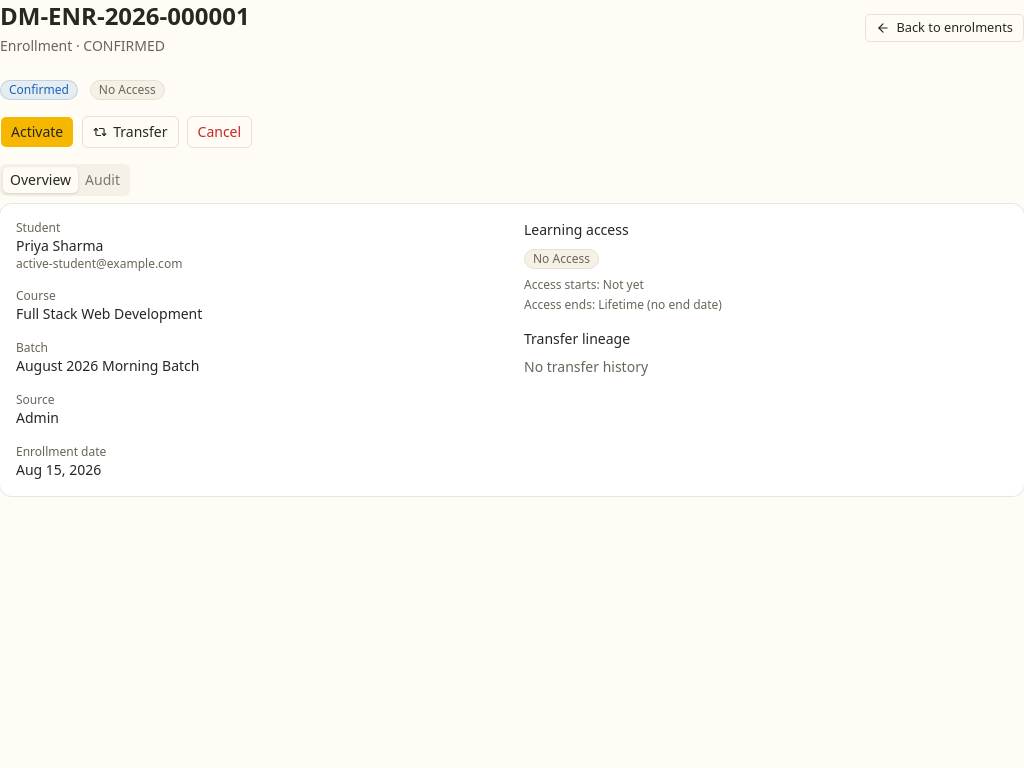
Test case: EnrollmentDetailPage › transfers a CONFIRMED enrollment to another batch of the same course
The width and height of the screenshot is (1024, 768).
Expected: the heading "DM-ENR-2026-000001" is shown, [0,0,250,32]
Click the button "Transfer": coordinates (130, 132) [82,116,179,148]
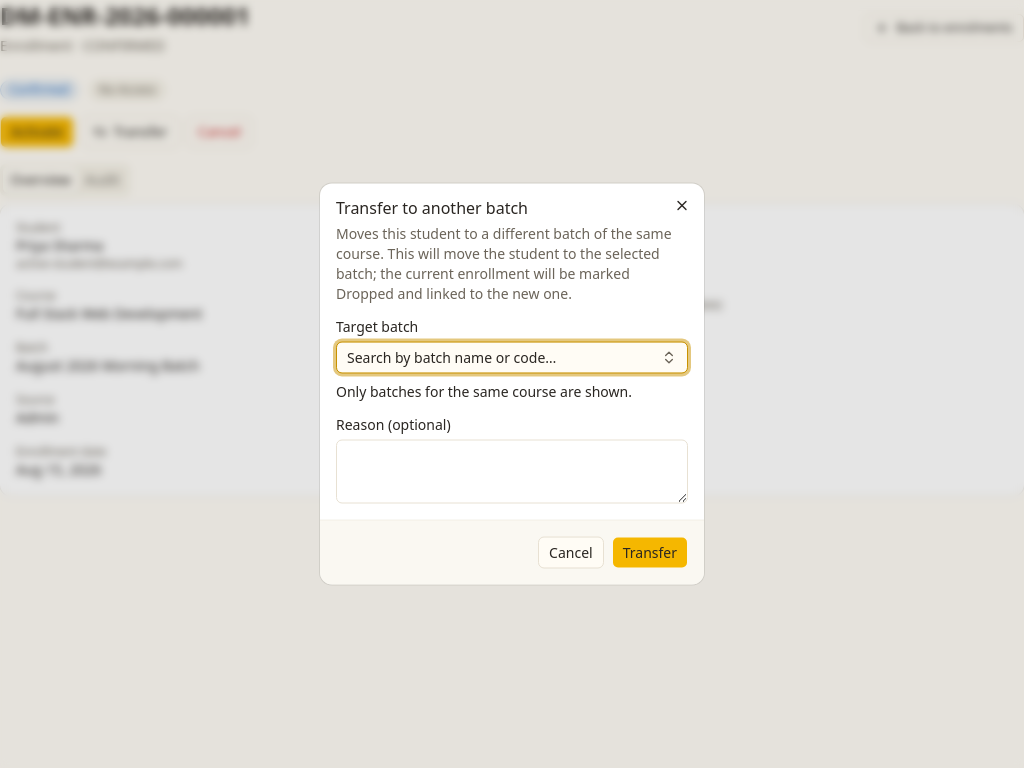
Click the dropdown: coordinates (512, 358) [336,342,688,374]
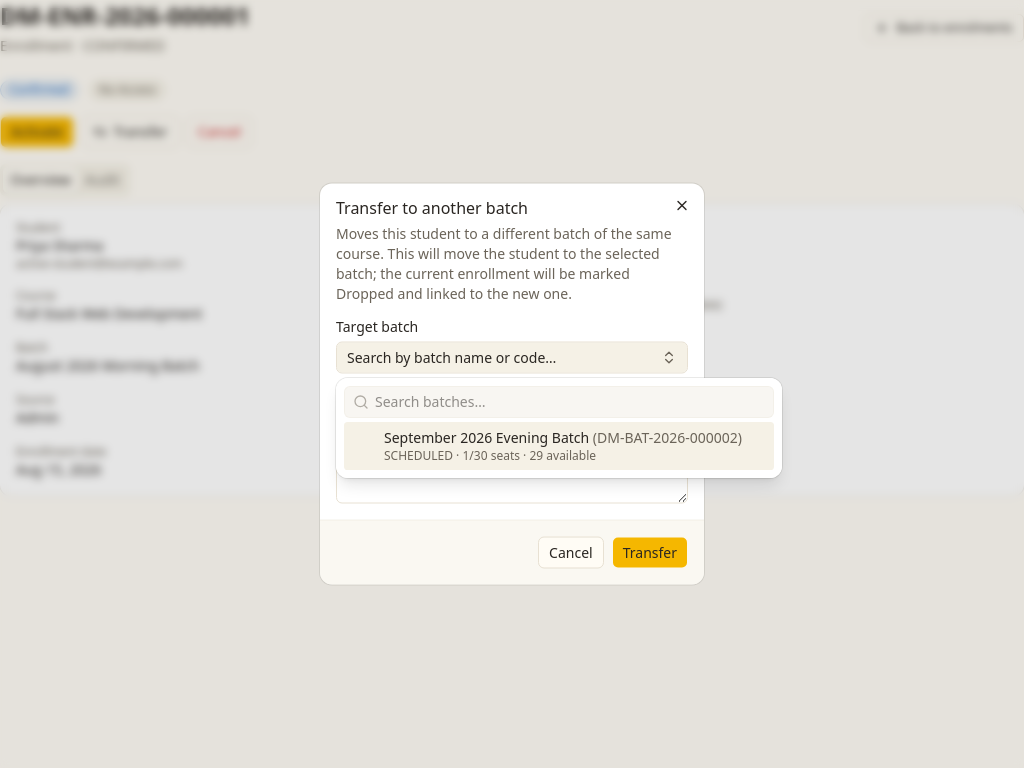
Click the text "September 2026 Evening Batch": coordinates (563, 438) [384,428,742,448]
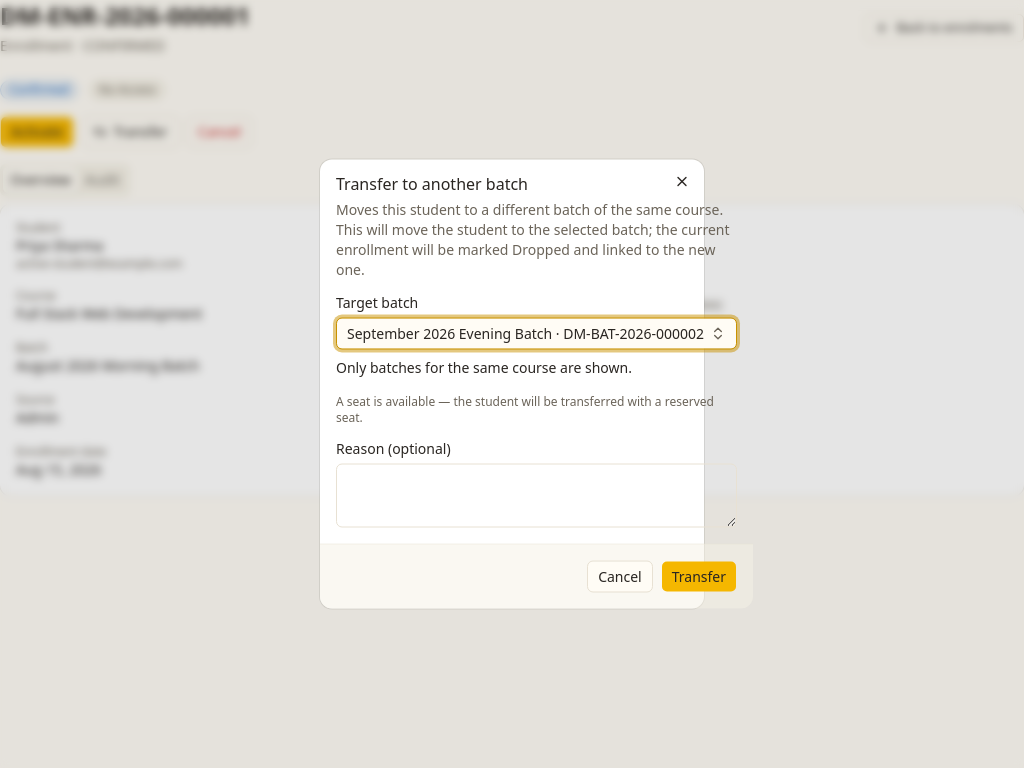
Click the button "Transfer": coordinates (699, 576) [661,560,737,592]
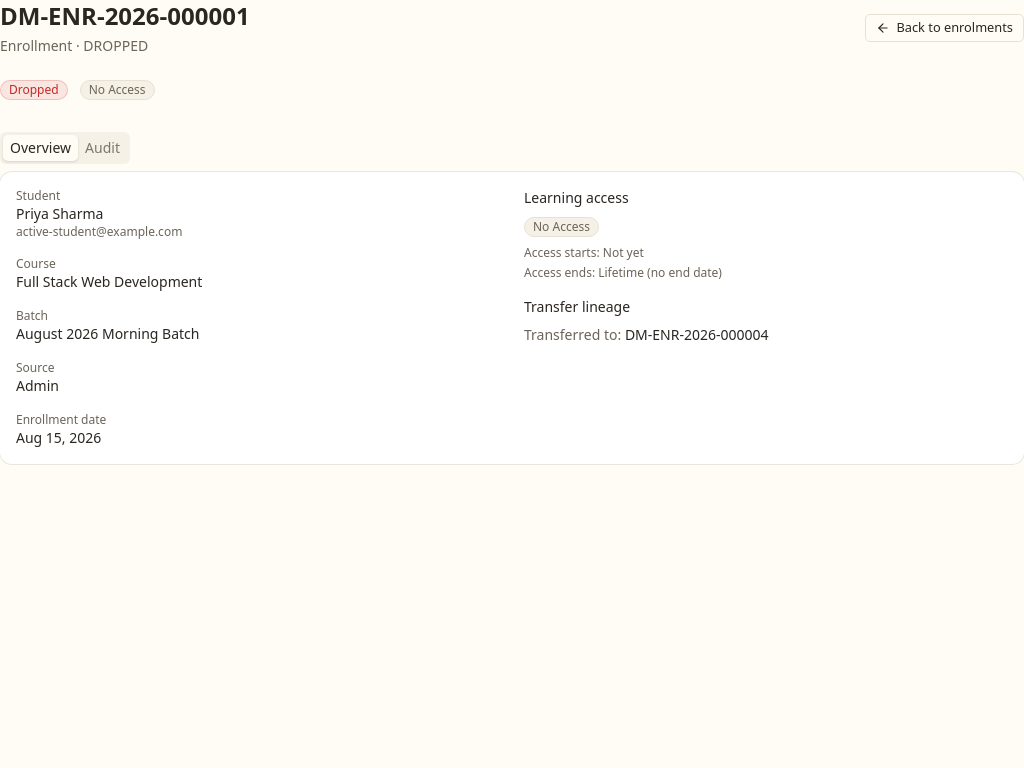
Expected: the text "Dropped" is shown, [0,80,68,100]
Expected: the text "Transferred to:" is shown, [524,325,625,344]
